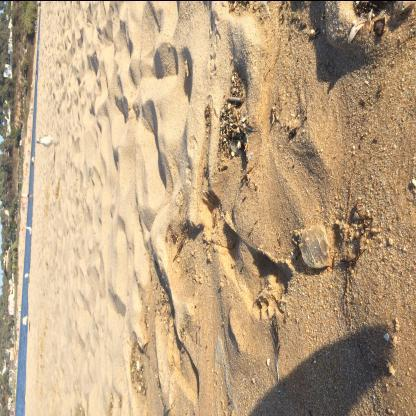plastik: (301, 225, 332, 269)
